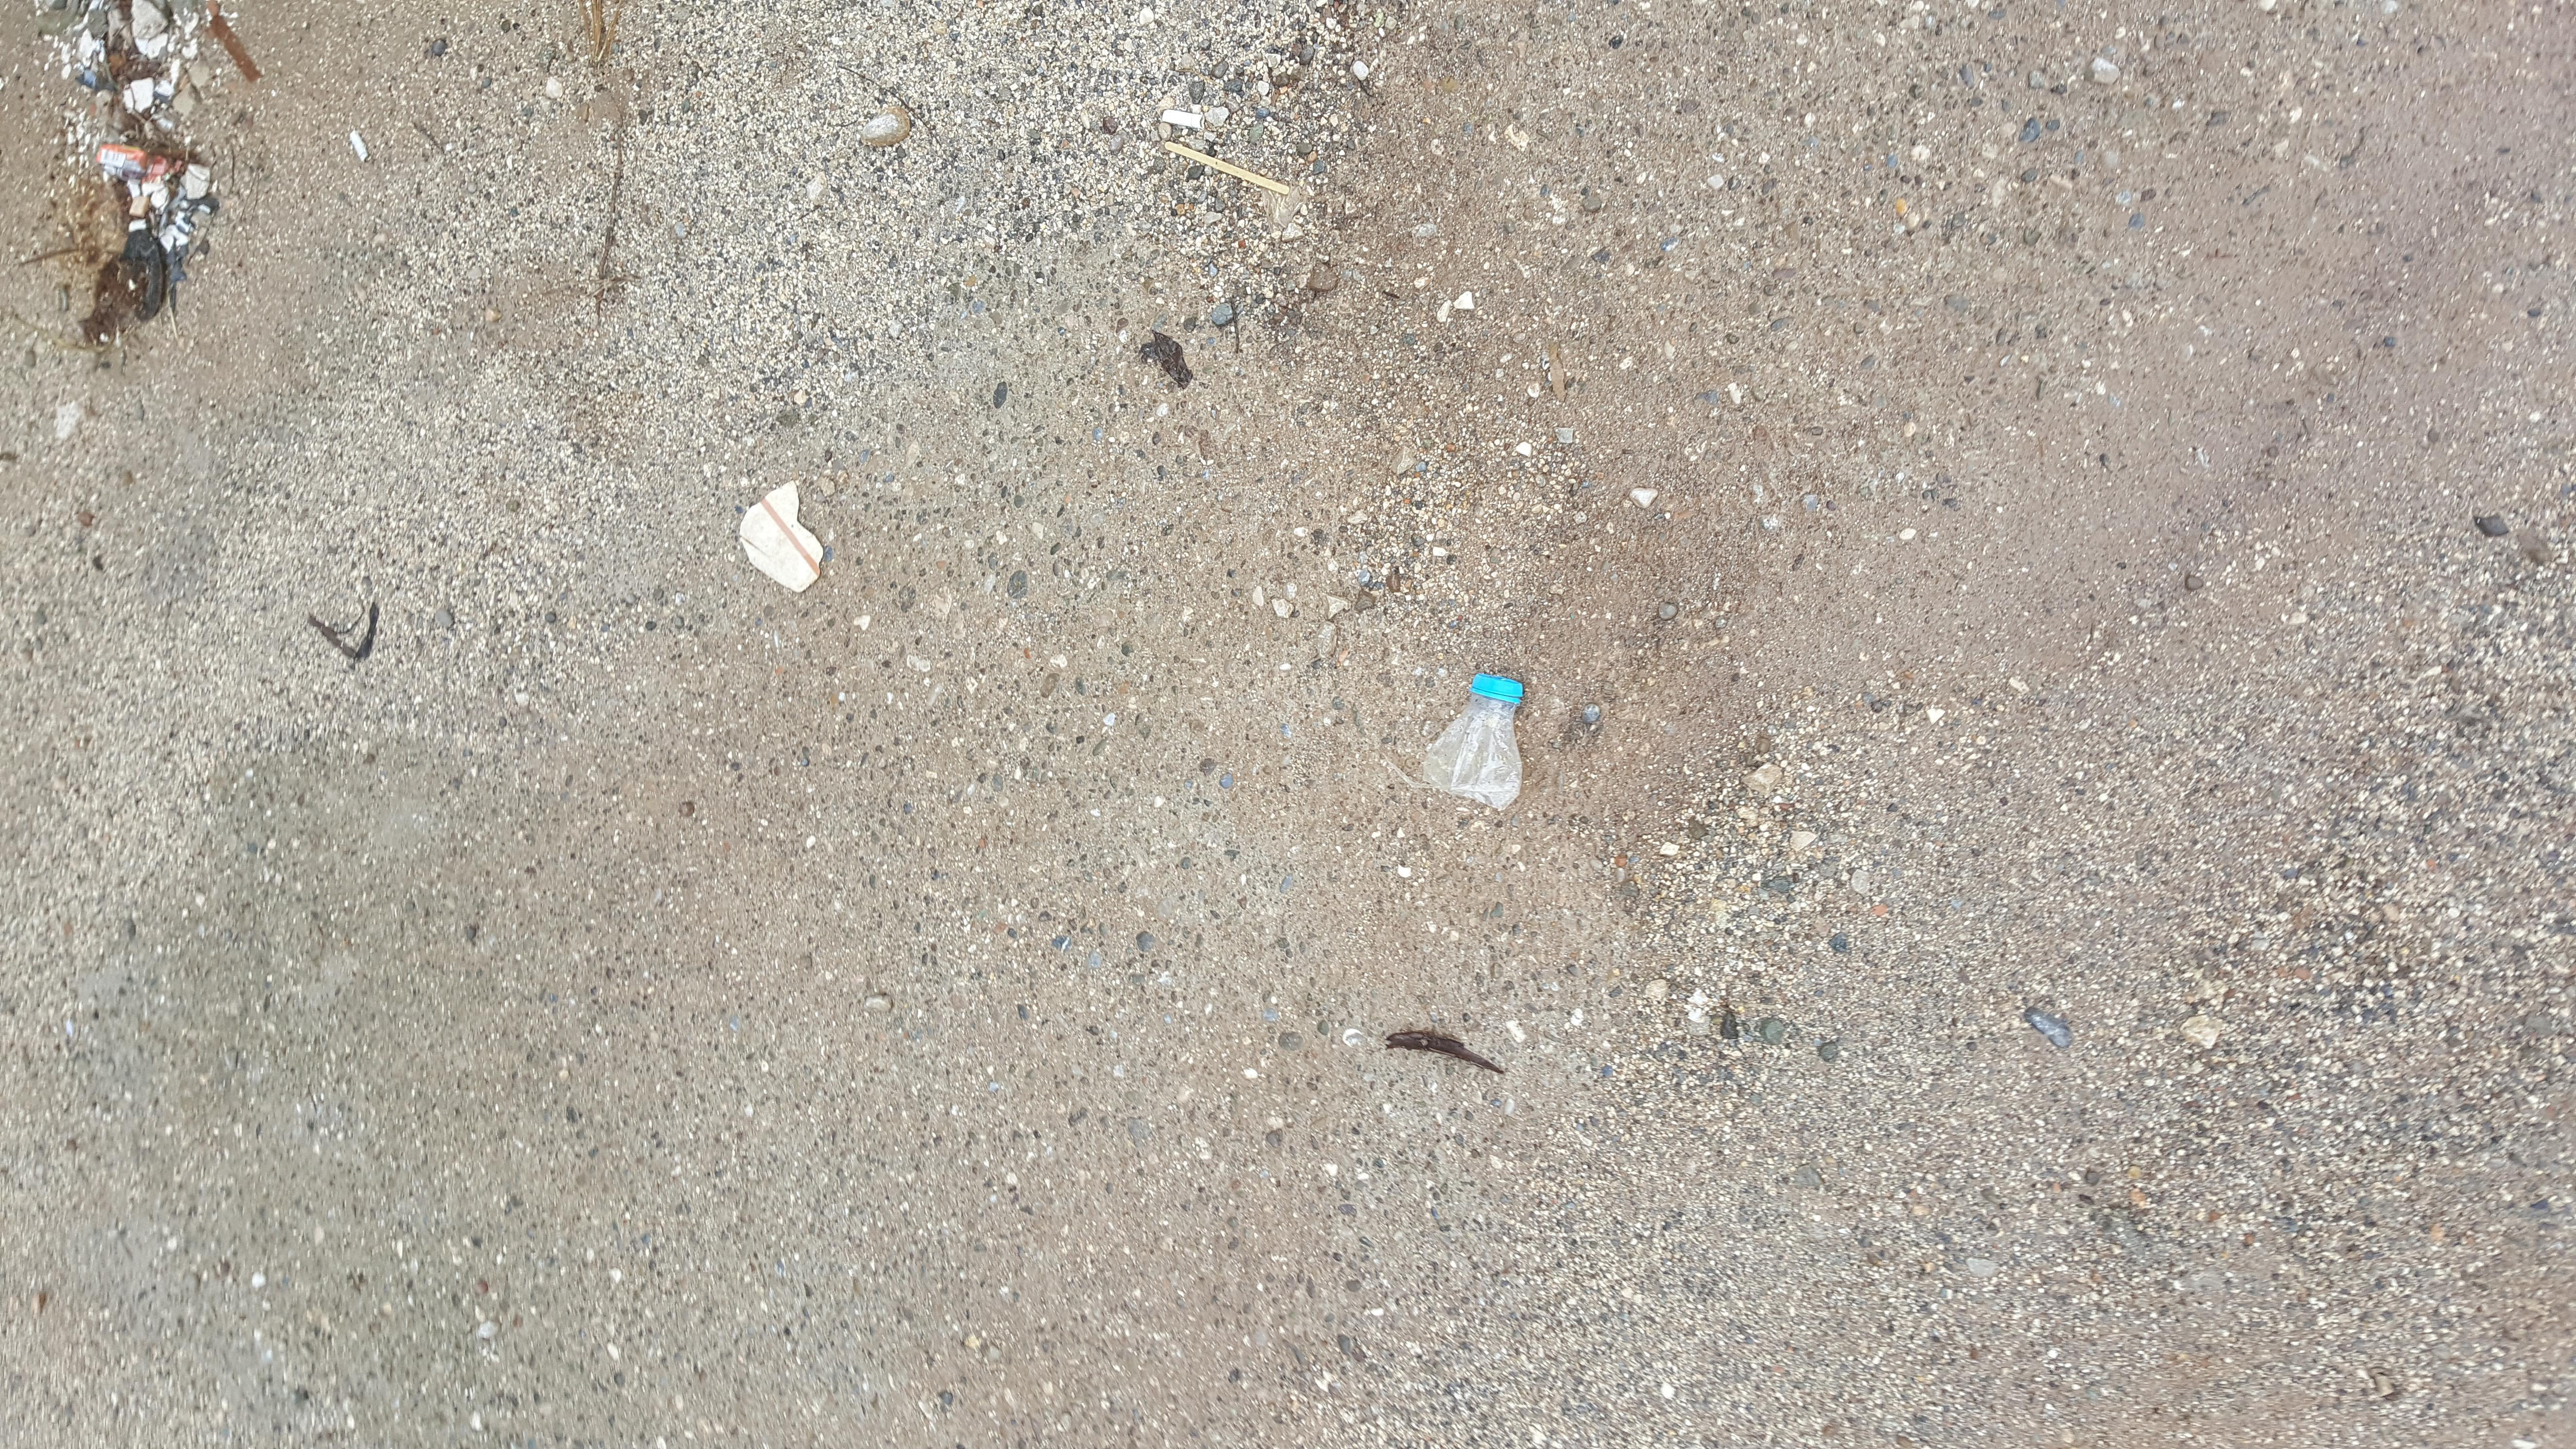bottle: (1046, 725, 1380, 856)
